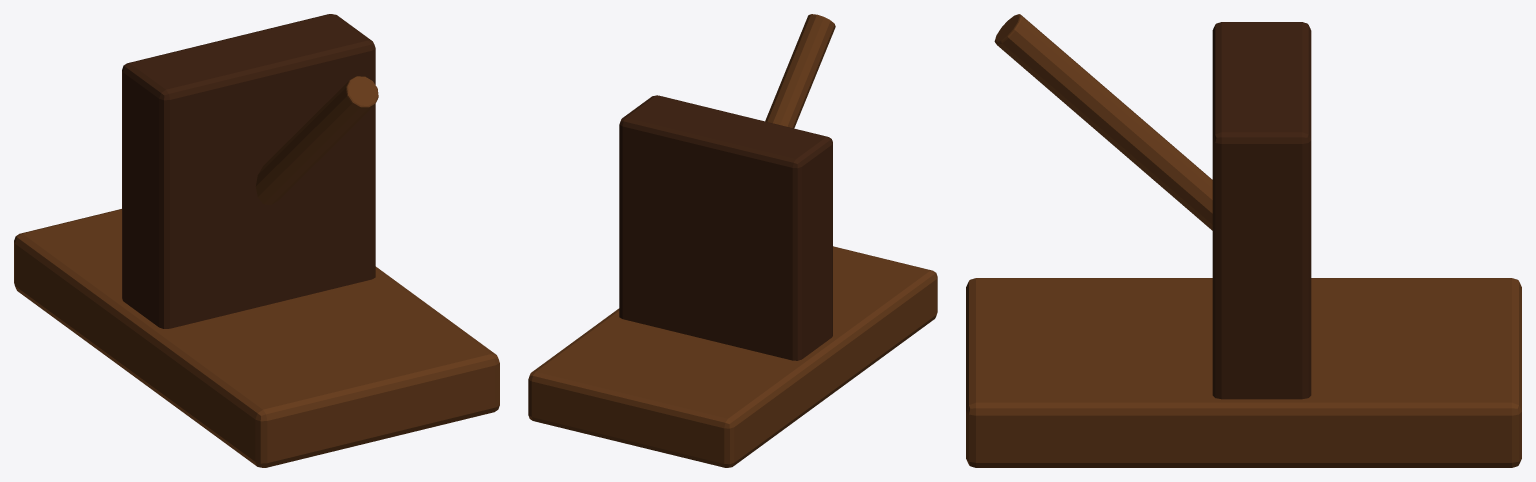
Rendered from catapult_articulated_LOD1.glb.
3 renders of one model, left to right at view 1: azimuth 30°, elevation 25°; view 2: azimuth 150°, elevation 25°; view 3: azimuth 270°, elevation 25°, orthographic. The views are drawn at different scales.
Parts seen in each view (by area): view 1: LOD1_Frame, LOD1_Chassis, LOD1_Arm; view 2: LOD1_Frame, LOD1_Chassis, LOD1_Arm; view 3: LOD1_Chassis, LOD1_Frame, LOD1_Arm.
Boxes of the visible parts, bbox=[...] form: LOD1_Frame: bbox=[122, 14, 375, 328]; LOD1_Chassis: bbox=[14, 209, 499, 467]; LOD1_Arm: bbox=[255, 76, 378, 204]; LOD1_Frame: bbox=[619, 95, 832, 360]; LOD1_Chassis: bbox=[528, 246, 937, 467]; LOD1_Arm: bbox=[765, 14, 835, 128]; LOD1_Chassis: bbox=[966, 278, 1521, 467]; LOD1_Frame: bbox=[1212, 22, 1311, 399]; LOD1_Arm: bbox=[994, 14, 1212, 230].
Bounding box in the file's own units: 1.75 × 2.39 × 3.1.
